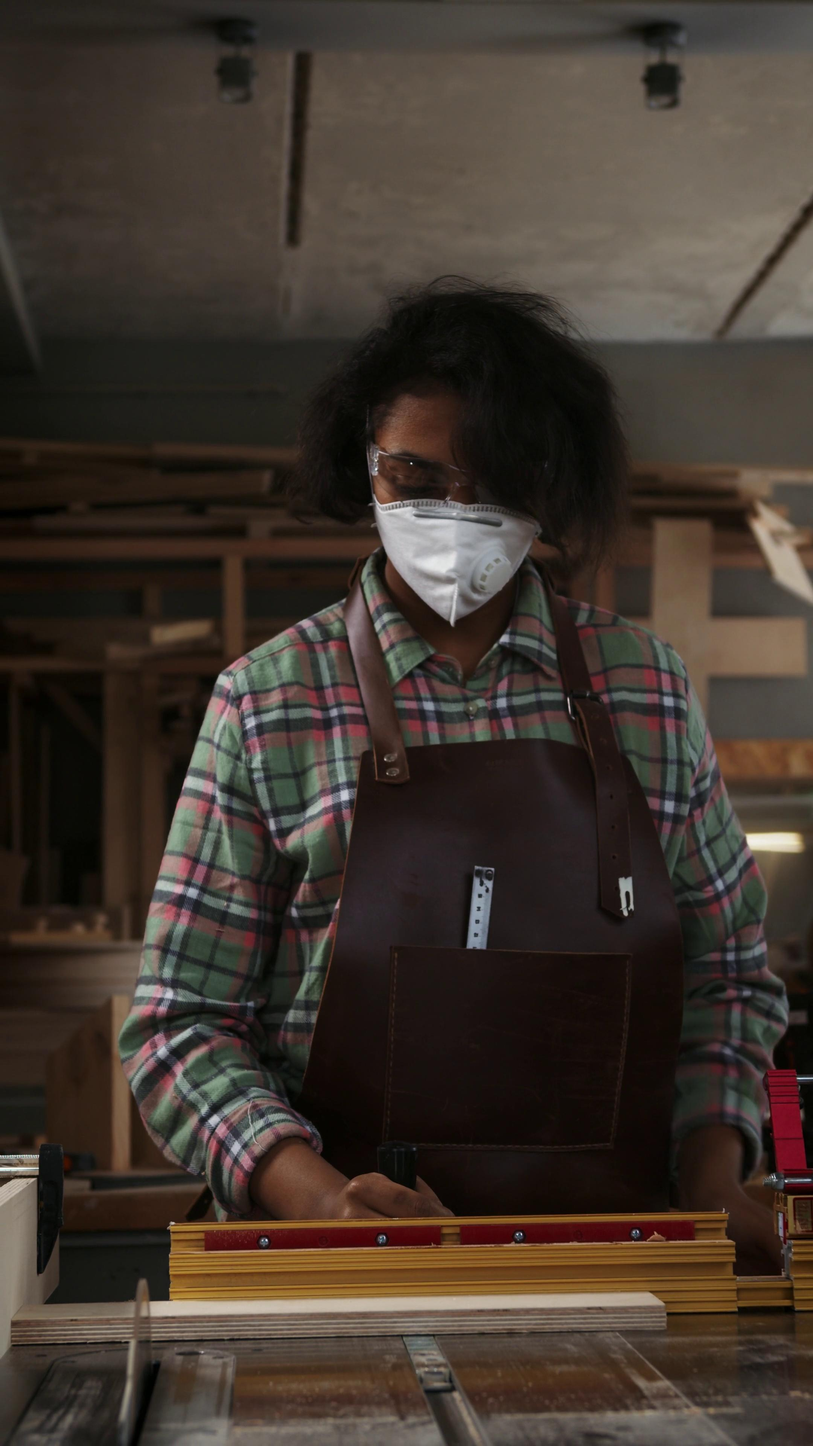mask: (371, 500, 540, 625)
person: (114, 277, 790, 1277)
